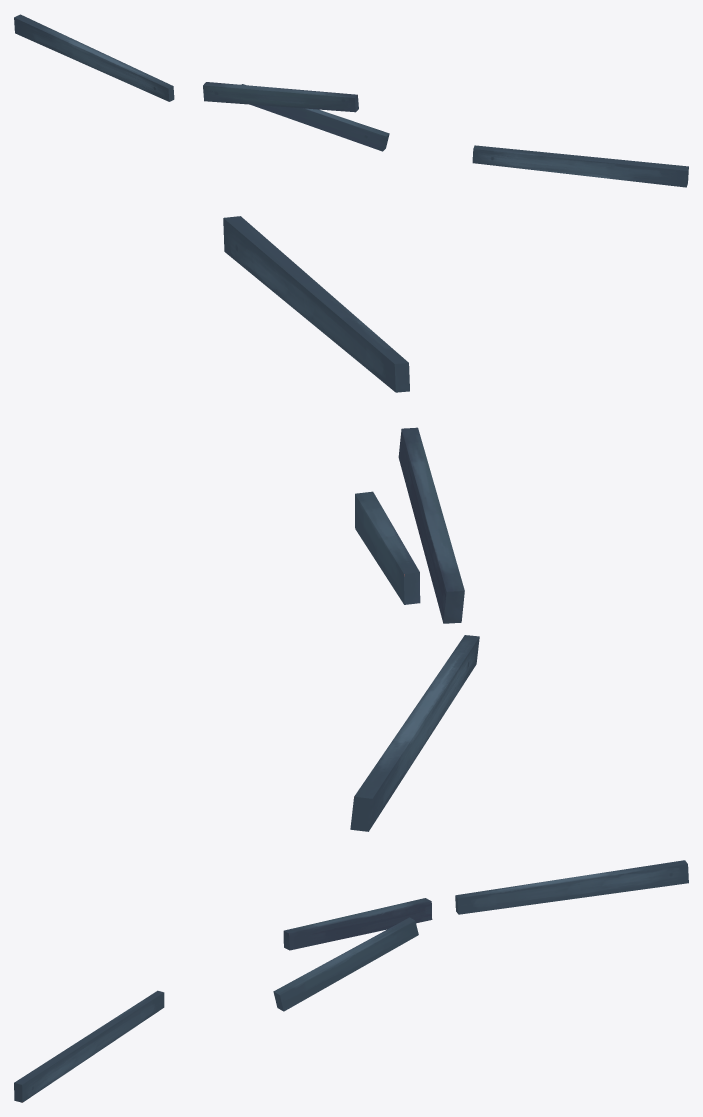
The model's file is Forest_House_Fence_04.glb.
3 views of the same model, one above another, from view 1: azimuth 30°, elevation 25°; view 2: azimuth 150°, elevation 25°; view 3: azimuth 270°, elevation 25° (orthographic). The views are drawn at different scales.
Parts seen in each view (by area): view 1: FenceRight.003; view 2: FenceRight.003; view 3: FenceRight.003.
Part boxes in pixels (bbox=[...]): FenceRight.003: bbox=[14, 14, 688, 187]; FenceRight.003: bbox=[223, 216, 479, 831]; FenceRight.003: bbox=[14, 860, 688, 1102].
Bounding box in the file's own units: 0.0201 × 0.00298 × 0.0284.
Materials: 1 (1 with a texture image).
